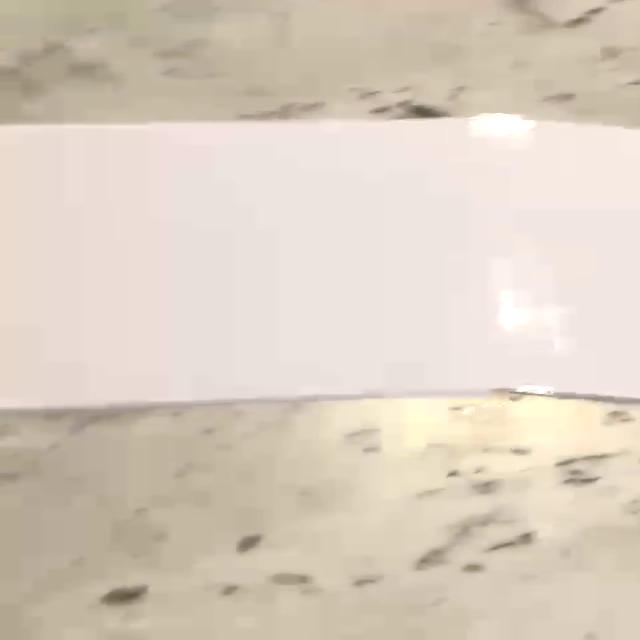road: (5, 115, 639, 407)
